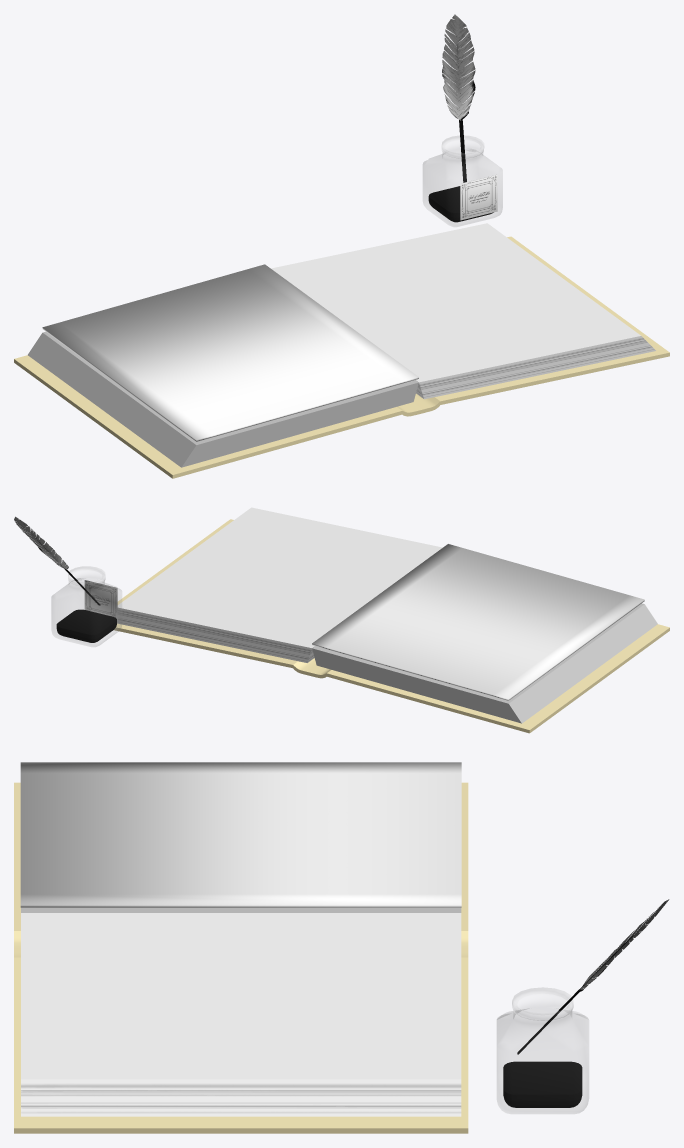
The model's file is modoru 1.fbx.
3 views of the same model, one above another, from view 1: azimuth 30°, elevation 25°; view 2: azimuth 150°, elevation 25°; view 3: azimuth 270°, elevation 25° (orthographic). The views are drawn at different scales.
Parts seen in each view (by area): view 1: Cube.006, Cube.001, Cube.003, Cube.002, Cube.004, Cube, Plane.002, Cube.007, Cube.005; view 2: Cube.006, Cube.001, Cube.003, Cube.002, Cube, Cube.004, Cube.005, Cube.007, Plane.002; view 3: Cube.001, Cube.006, Cube, Cube.002, Cube.004, Cube.005, Cube.007, Plane.002.
Boxes of the visible parts, bbox=[...] form: Cube.006: bbox=[42, 264, 418, 441]; Cube.001: bbox=[271, 223, 640, 382]; Cube.003: bbox=[28, 332, 418, 467]; Cube.002: bbox=[14, 236, 669, 478]; Cube.004: bbox=[423, 135, 502, 226]; Cube: bbox=[416, 336, 655, 399]; Plane.002: bbox=[442, 14, 475, 182]; Cube.007: bbox=[43, 331, 418, 444]; Cube.005: bbox=[428, 186, 493, 222]; Cube.006: bbox=[312, 544, 644, 700]; Cube.001: bbox=[117, 507, 442, 647]; Cube.003: bbox=[312, 604, 657, 723]; Cube.002: bbox=[113, 519, 669, 733]; Cube: bbox=[117, 607, 314, 662]; Cube.004: bbox=[51, 566, 121, 646]; Cube.005: bbox=[56, 609, 116, 642]; Cube.007: bbox=[312, 603, 644, 703]; Plane.002: bbox=[14, 516, 100, 605]; Cube.001: bbox=[21, 913, 461, 1079]; Cube.006: bbox=[20, 762, 461, 907]; Cube: bbox=[21, 1079, 461, 1116]; Cube.002: bbox=[14, 782, 468, 1133]; Cube.004: bbox=[497, 987, 588, 1113]; Cube.005: bbox=[503, 1061, 582, 1107]; Cube.007: bbox=[21, 907, 461, 912]; Plane.002: bbox=[517, 899, 669, 1054].
Size of what is drawn, in the model's own units: 329 by 104 by 252.
